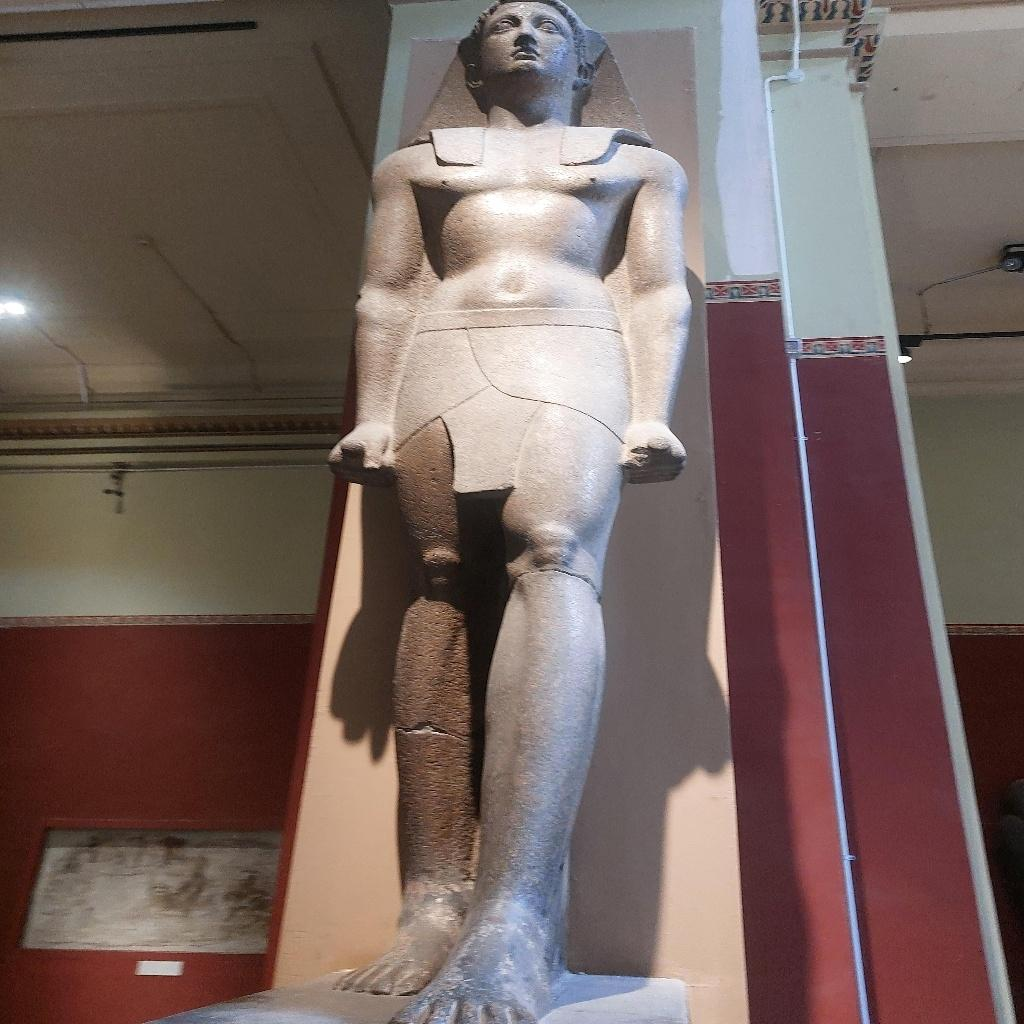Augustus: (322, 1, 696, 1021)
